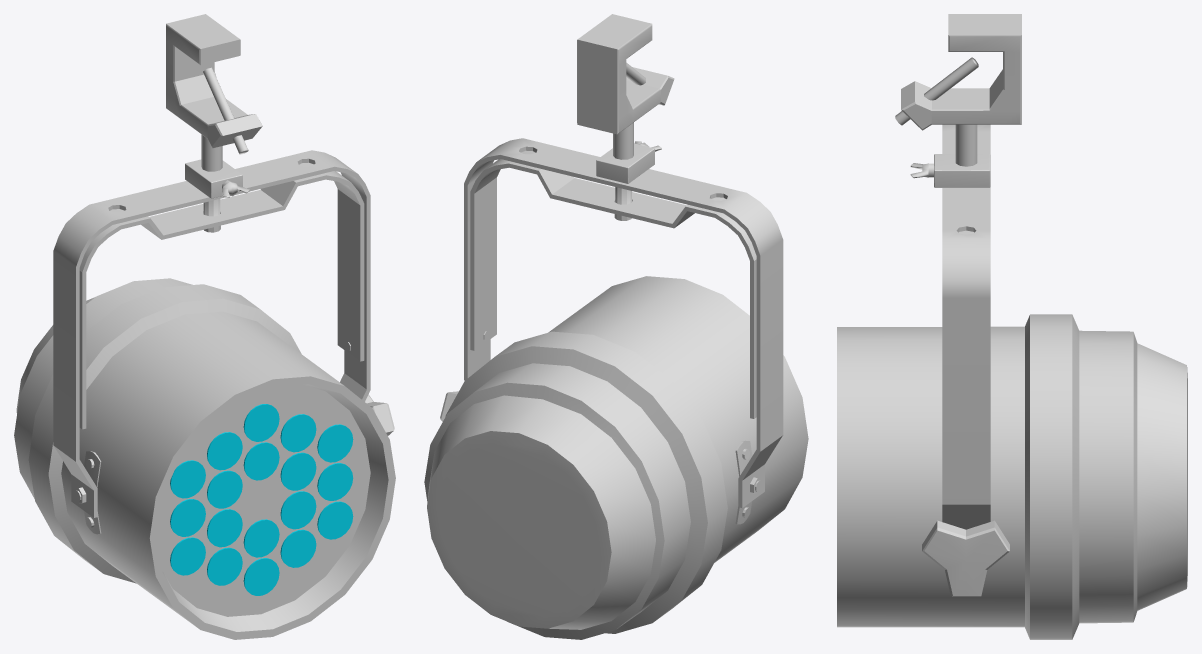
File: Par_Light_Tarantula_Hanging.fbx
3 views of the same model, side by side, from view 1: azimuth 30°, elevation 25°; view 2: azimuth 150°, elevation 25°; view 3: azimuth 270°, elevation 25° (orthographic). The views are drawn at different scales.
Visible parts, largest first — view 1: Par_Light_Tarantula_Base, Par_Light_Hook, Par_Light_Tarantula_LightBulb, Par_Light_Tarantula_Hanging; view 2: Par_Light_Tarantula_Base, Par_Light_Hook, Par_Light_Tarantula_Hanging; view 3: Par_Light_Tarantula_Base, Par_Light_Hook, Par_Light_Tarantula_Hanging.
Boxes of the visible parts, x1=… form: Par_Light_Tarantula_Base: x1=14, y1=278, x2=395, y2=639; Par_Light_Hook: x1=53, y1=150, x2=370, y2=517; Par_Light_Tarantula_LightBulb: x1=170, y1=404, x2=353, y2=595; Par_Light_Tarantula_Hanging: x1=166, y1=14, x2=262, y2=232; Par_Light_Tarantula_Base: x1=424, y1=276, x2=808, y2=639; Par_Light_Hook: x1=464, y1=138, x2=783, y2=507; Par_Light_Tarantula_Hanging: x1=577, y1=14, x2=674, y2=220; Par_Light_Tarantula_Base: x1=837, y1=314, x2=1187, y2=639; Par_Light_Hook: x1=942, y1=124, x2=990, y2=529; Par_Light_Tarantula_Hanging: x1=895, y1=14, x2=1021, y2=187.
Bounding box in the file's own units: 25.37 × 44.04 × 23.27.
